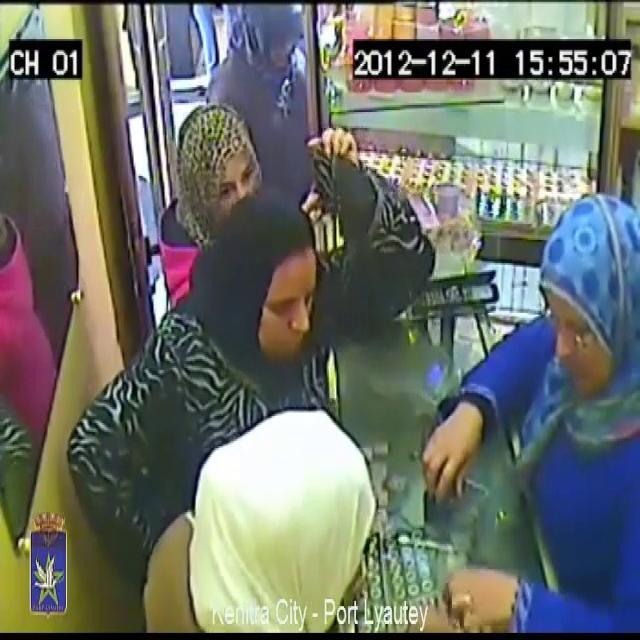normal: (466, 138, 639, 640), (139, 404, 407, 640), (243, 195, 374, 412), (168, 66, 258, 264), (228, 0, 314, 192)
